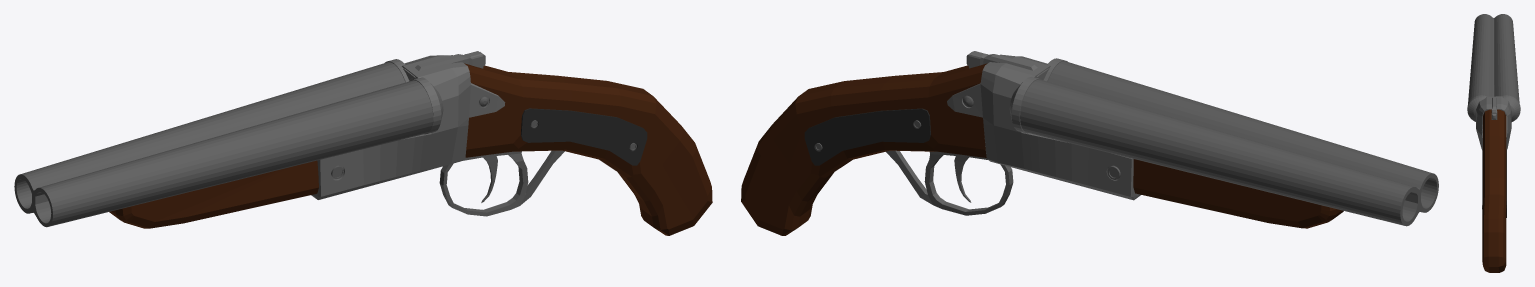
File: 2PartGun.fbx
3 renders of one model, left to right at view 1: azimuth 30°, elevation 25°; view 2: azimuth 150°, elevation 25°; view 3: azimuth 270°, elevation 25°, orthographic. The views are drawn at different scales.
Parts seen in each view (by area): view 1: uploads_files_3983773_Viking:polySurface2, uploads_files_3983773_Viking:polySurface3; view 2: uploads_files_3983773_Viking:polySurface2, uploads_files_3983773_Viking:polySurface3; view 3: uploads_files_3983773_Viking:polySurface3, uploads_files_3983773_Viking:polySurface2.
Part boxes in pixels (left/top/right/bottom): uploads_files_3983773_Viking:polySurface2: left=14, top=62, right=433, bottom=228; uploads_files_3983773_Viking:polySurface3: left=311, top=51, right=712, bottom=235; uploads_files_3983773_Viking:polySurface2: left=1020, top=61, right=1438, bottom=228; uploads_files_3983773_Viking:polySurface3: left=741, top=51, right=1140, bottom=235; uploads_files_3983773_Viking:polySurface3: left=1467, top=95, right=1520, bottom=272; uploads_files_3983773_Viking:polySurface2: left=1468, top=14, right=1519, bottom=103.
Size of the model in its own units: 1.41 by 0.4531 by 0.1932.
